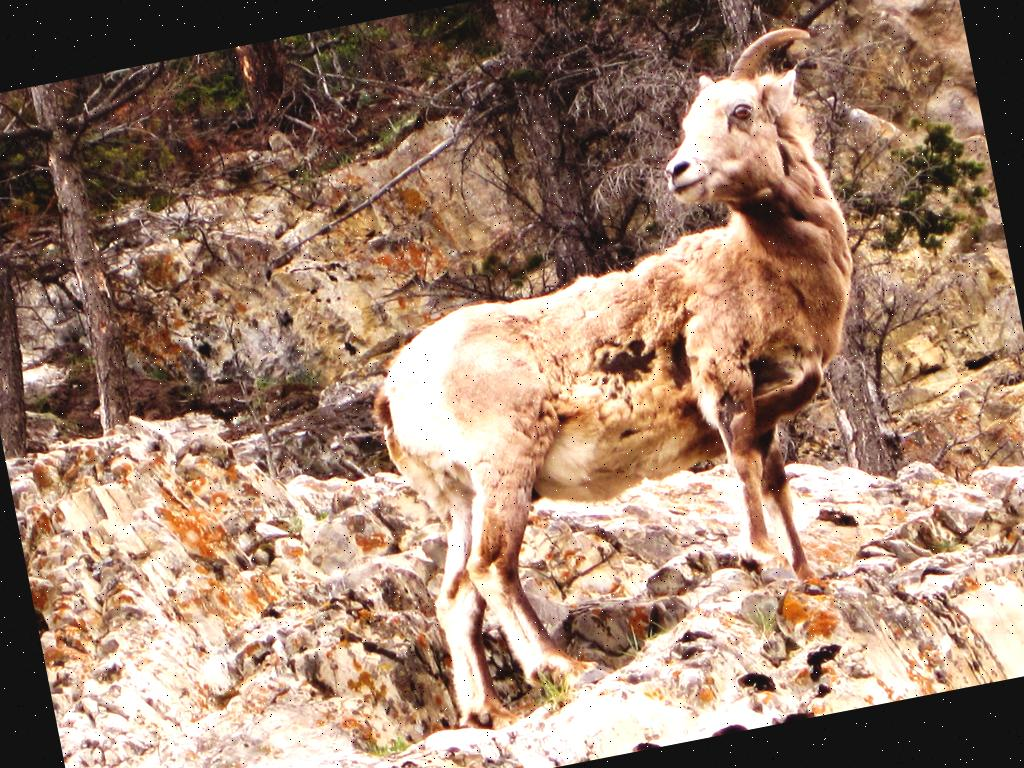Sheep: (312, 22, 934, 744)
